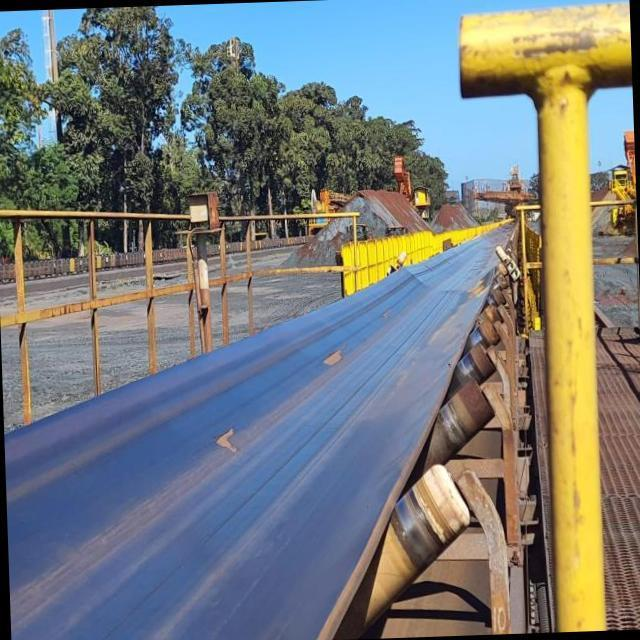Tear: (204, 423, 247, 461), (314, 344, 346, 372)
